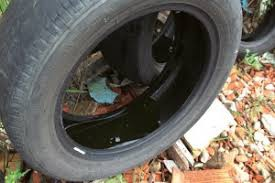tire: (1, 2, 242, 182)
